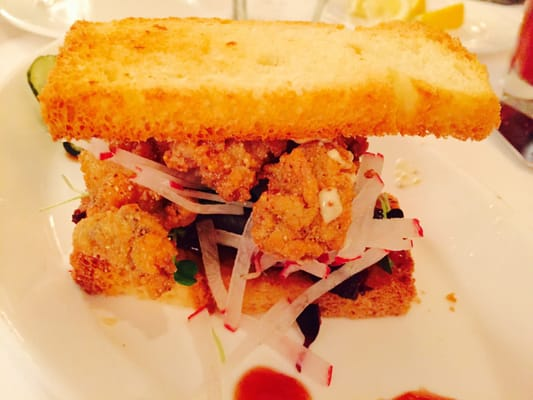soup: (36, 15, 461, 327)
